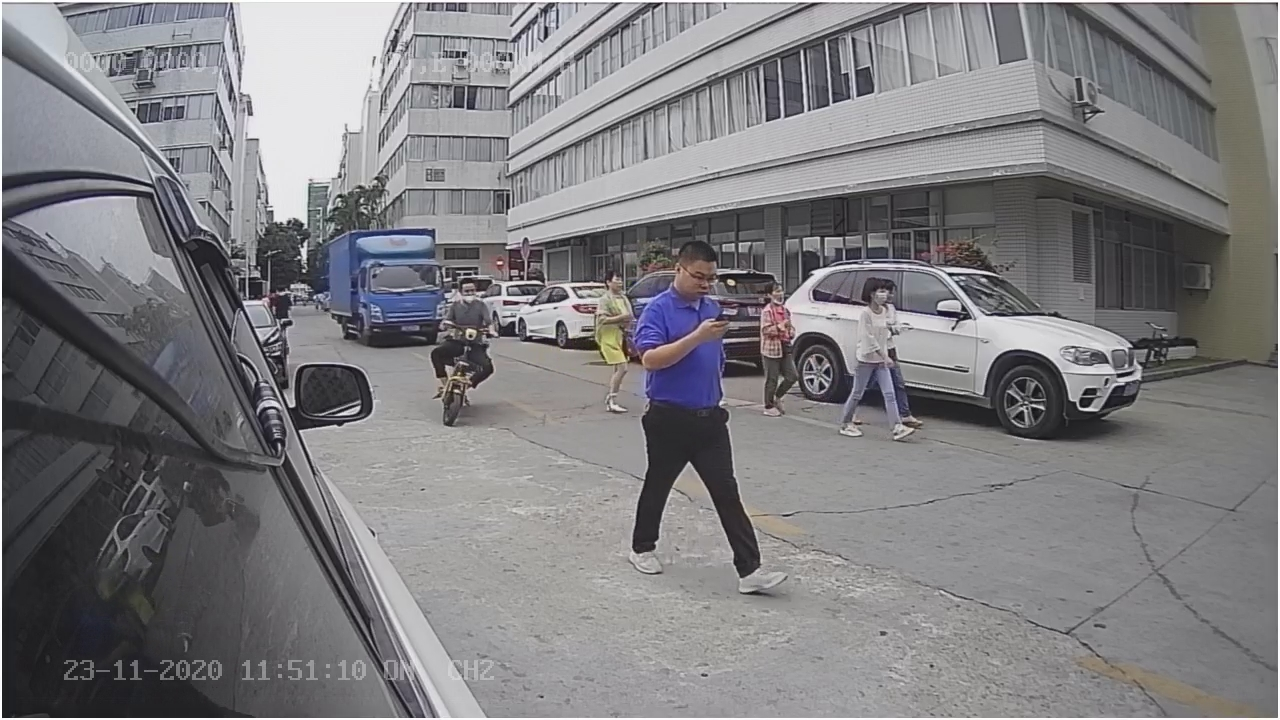person: (614, 242, 792, 595), (440, 269, 500, 334)
